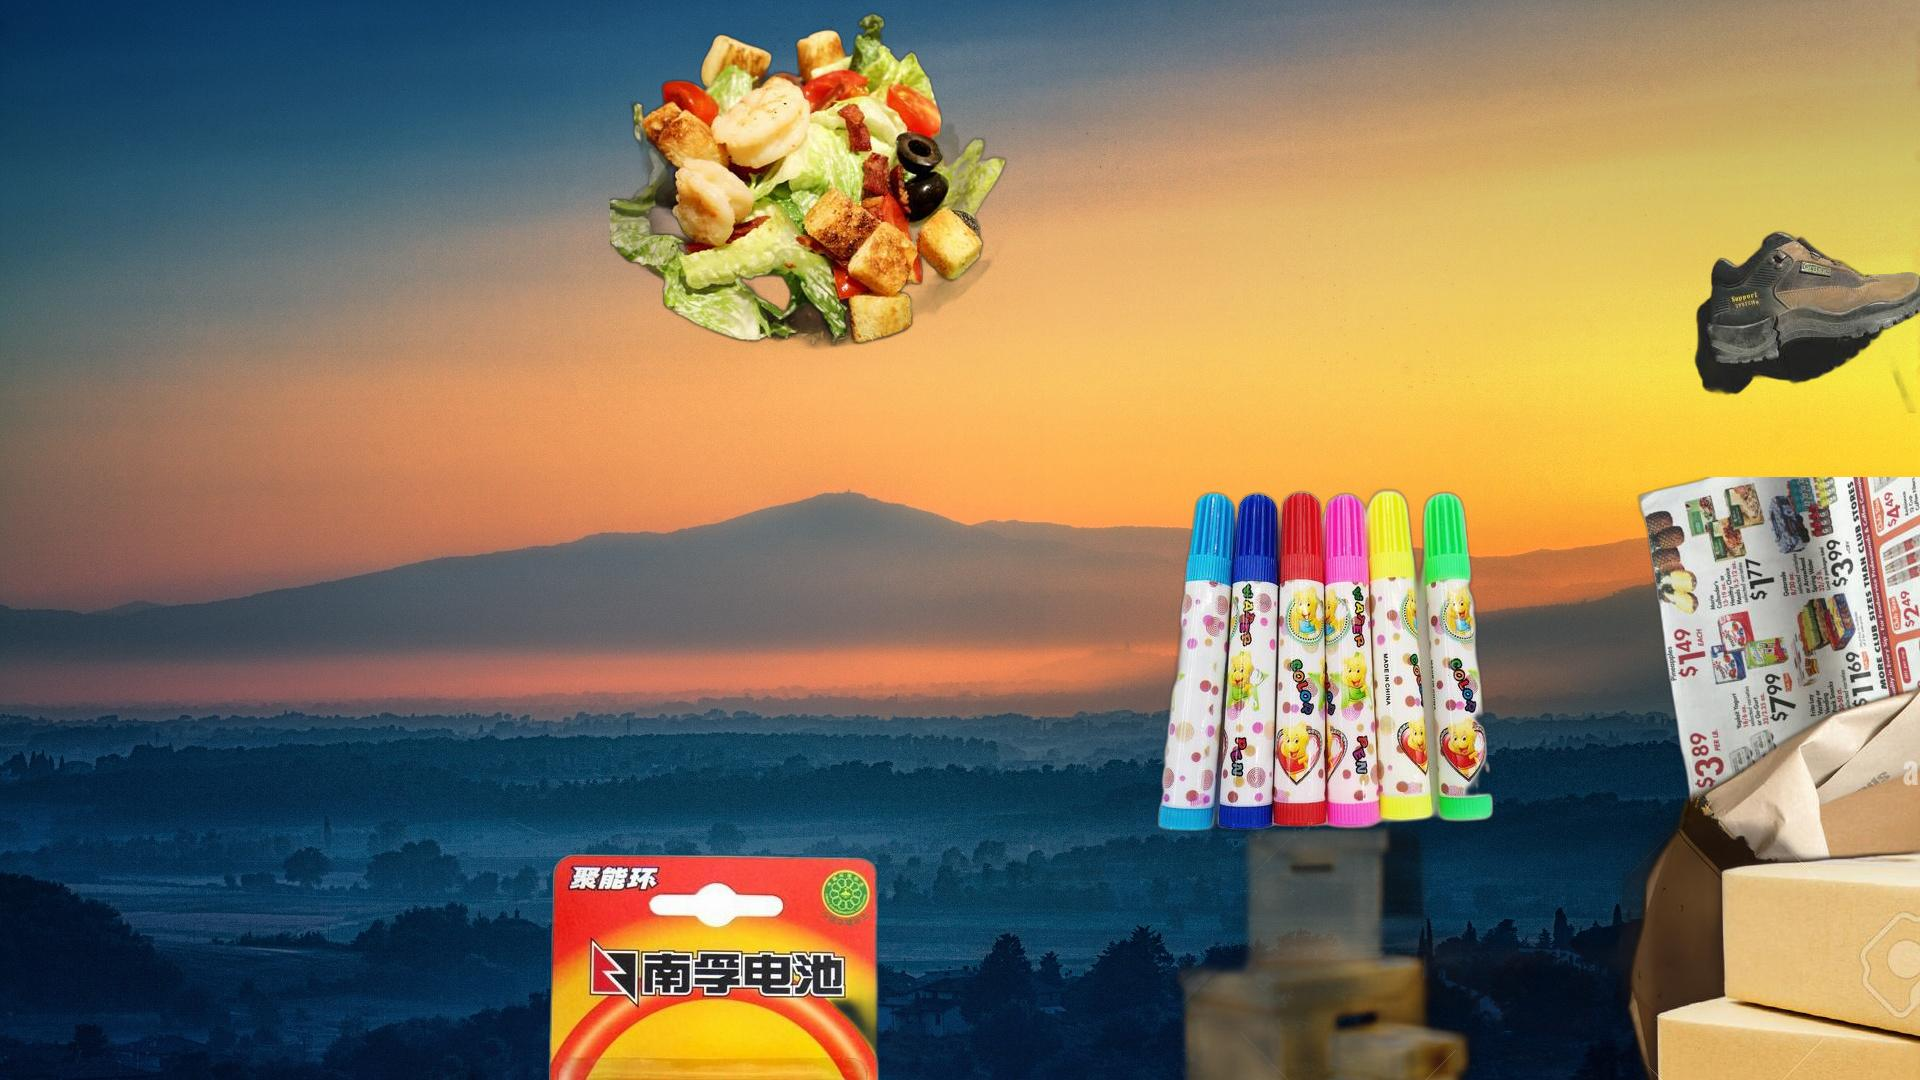battery: (542, 815, 1114, 1080)
biological: (611, 9, 1010, 396)
paper: (1635, 477, 1920, 861)
penholder: (1153, 484, 1498, 836)
shoes: (1693, 227, 1920, 413)
trashbox-cardboard: (1145, 810, 1920, 1080), (1615, 650, 1920, 1080)
